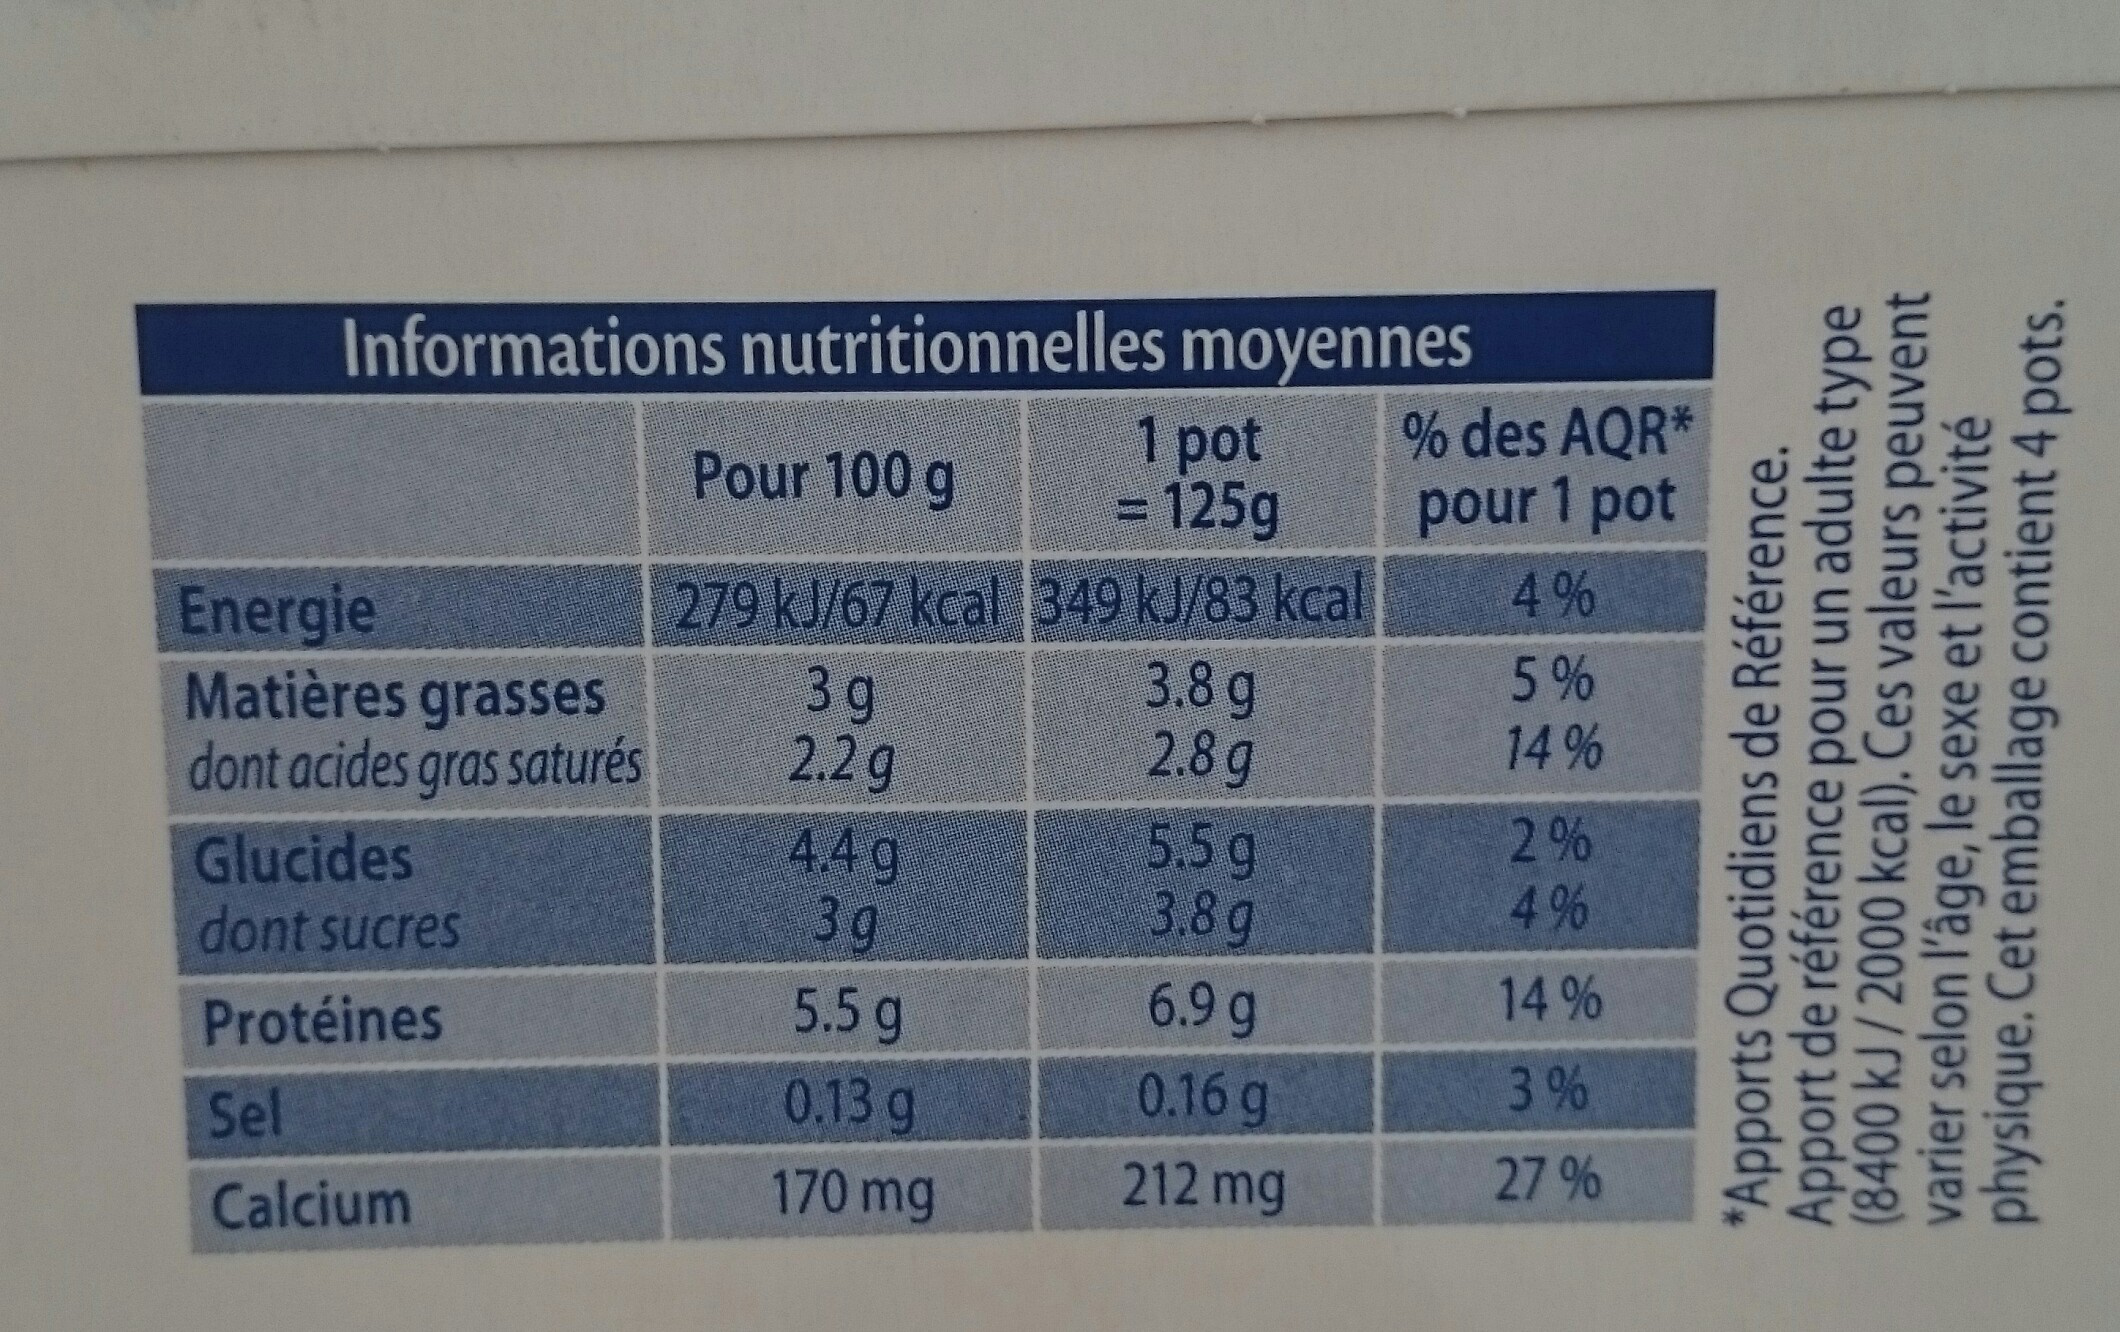column: (176, 410, 638, 1231), (676, 413, 1003, 1228), (1040, 413, 1364, 1222), (1397, 404, 1694, 1203)
table: (133, 298, 1721, 1258)
